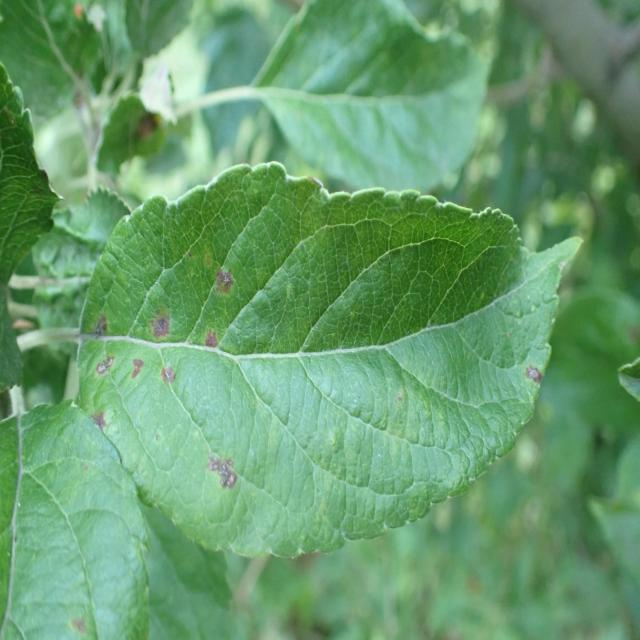scab: (55, 185, 558, 575)
